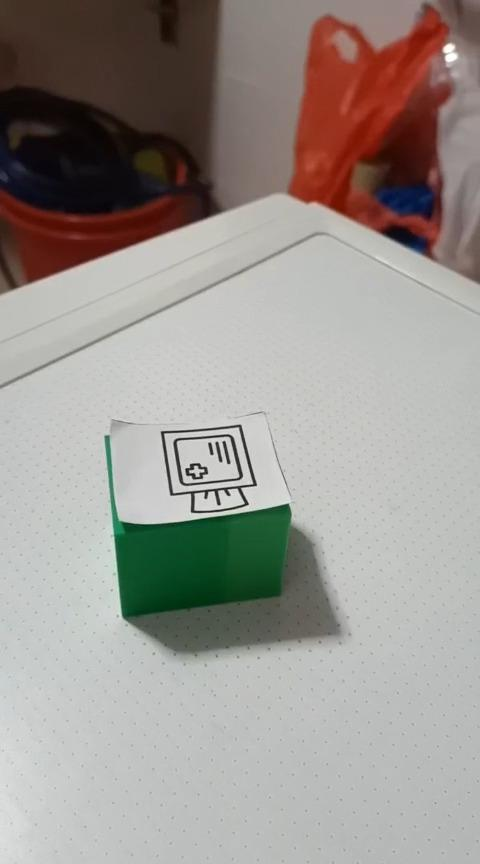Gauze: (103, 409, 293, 618)
